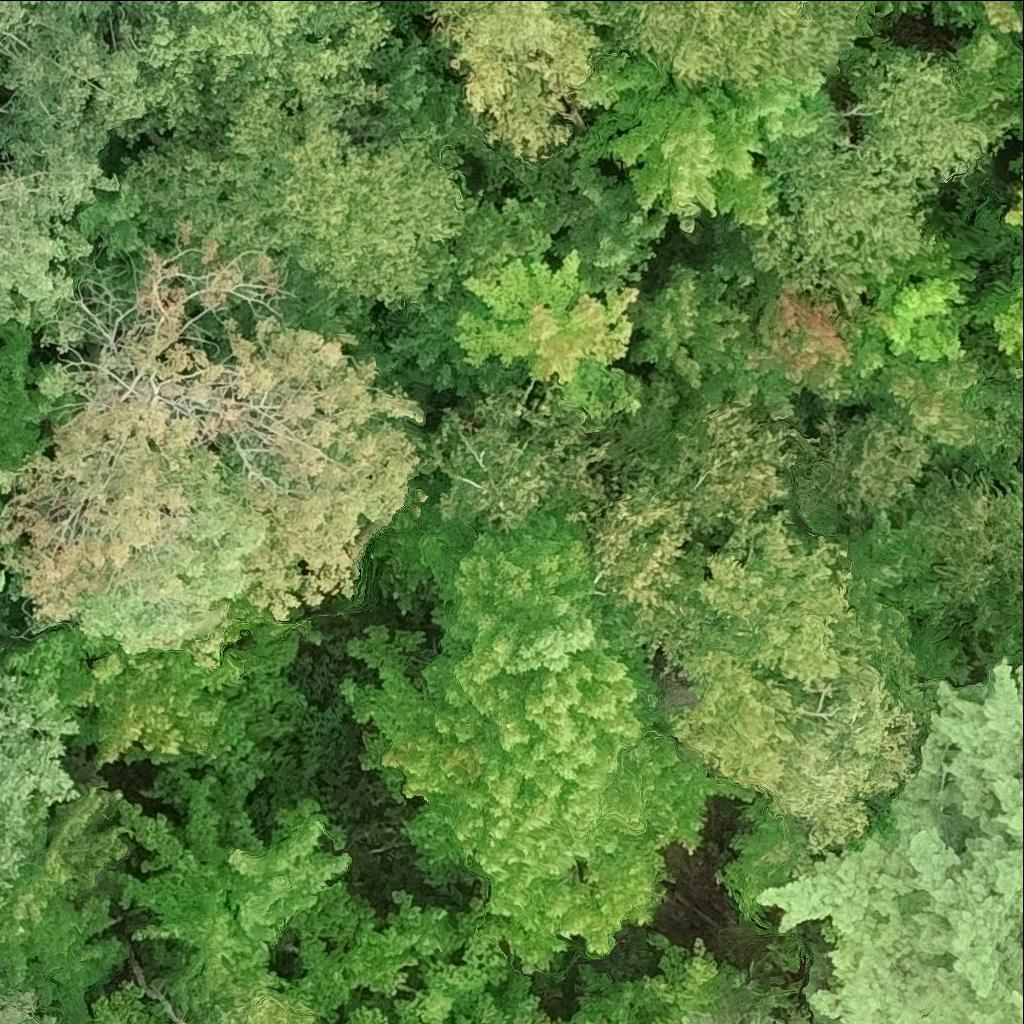crown: (343, 503, 753, 975), (0, 250, 427, 664), (762, 658, 1023, 1023), (102, 778, 488, 1023), (192, 9, 489, 311), (6, 596, 318, 804), (662, 652, 919, 877), (582, 406, 800, 654), (453, 201, 641, 429), (574, 61, 832, 225), (653, 507, 883, 688), (741, 107, 926, 312), (370, 389, 607, 531), (0, 783, 132, 1023), (138, 0, 373, 125), (425, 0, 605, 159), (587, 0, 876, 97), (848, 29, 1023, 188), (739, 283, 890, 420), (620, 267, 760, 405), (0, 147, 100, 329), (0, 659, 79, 882), (552, 160, 673, 289), (864, 355, 1002, 459), (869, 236, 974, 366), (627, 930, 750, 1023), (391, 934, 509, 1023), (89, 985, 315, 1023), (568, 965, 633, 1023), (988, 280, 1023, 373), (944, 0, 1023, 38), (0, 0, 36, 69), (723, 987, 791, 1023), (507, 997, 563, 1023), (1001, 177, 1023, 226), (0, 995, 38, 1023), (0, 535, 16, 590), (864, 0, 912, 17), (341, 1009, 395, 1023), (681, 1009, 718, 1023), (0, 467, 21, 491), (789, 1014, 812, 1023)
